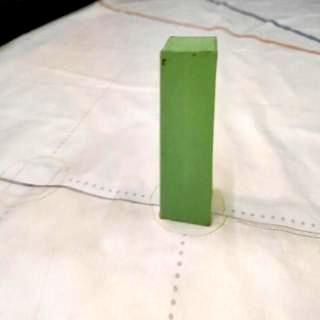greenbox: (160, 35, 218, 228)
